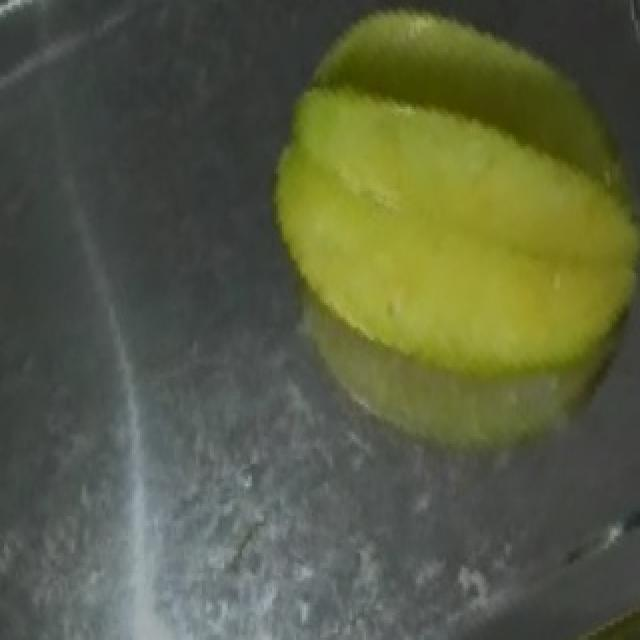fruit: (254, 0, 640, 481)
